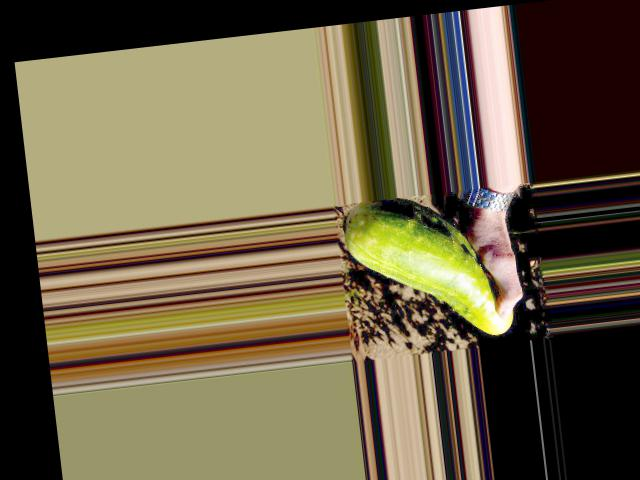cucumber: (339, 185, 515, 350)
